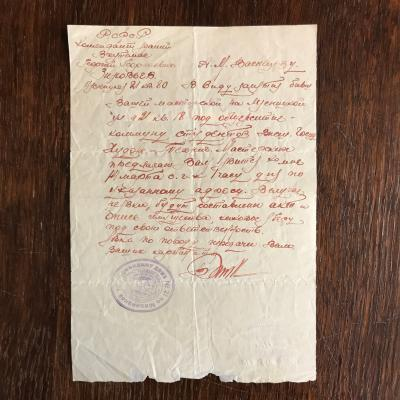document: (67, 25, 317, 385)
